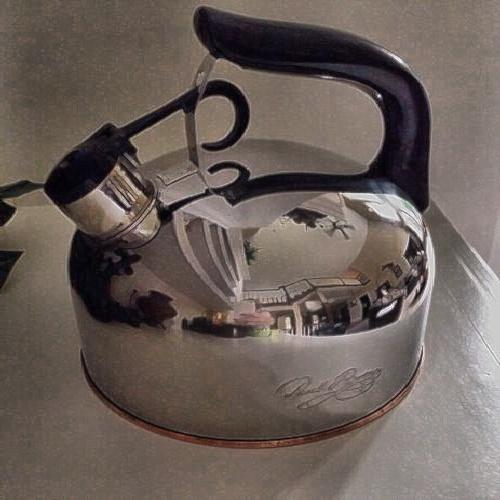kettle: (49, 7, 455, 463)
